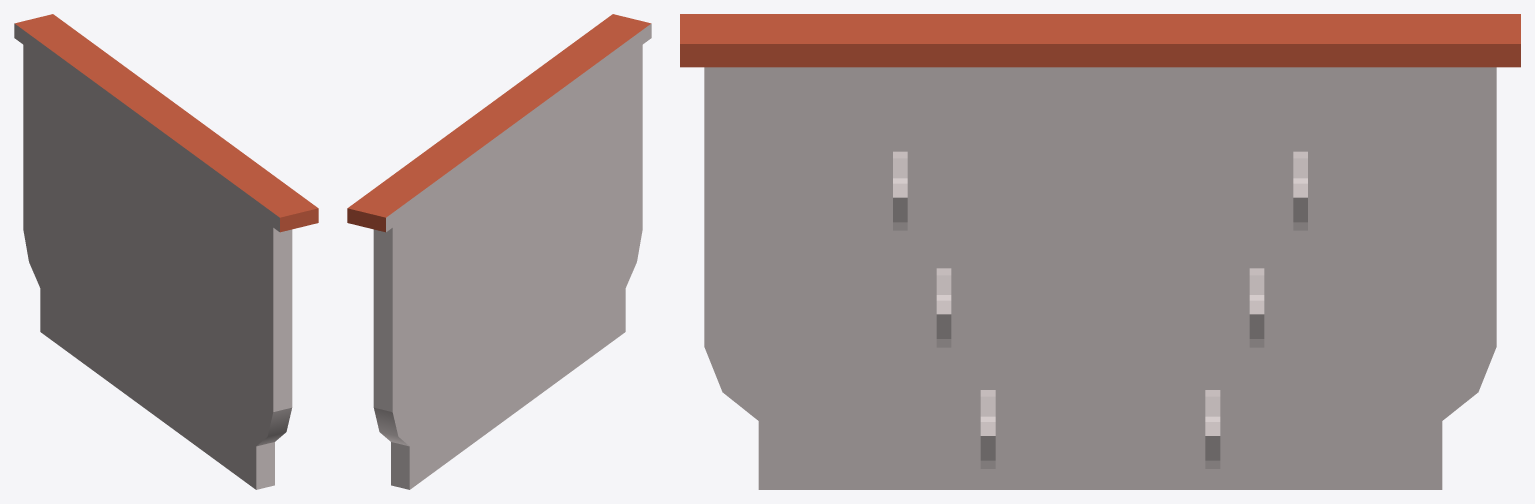
The model's file is Katana.fbx.
The picture shows the model from 3 angles, left to right: view 1: azimuth 30°, elevation 25°; view 2: azimuth 150°, elevation 25°; view 3: azimuth 270°, elevation 25°; orthographic projection. The views are drawn at different scales.
Visible parts, largest first — view 1: SM_fasteners_01; view 2: SM_fasteners_01; view 3: SM_fasteners_01.
Part boxes in pixels (x1,y1,x2,y2): SM_fasteners_01: (14, 14, 318, 489); SM_fasteners_01: (347, 14, 651, 489); SM_fasteners_01: (680, 14, 1520, 489).
Bounding box in the file's own units: 22.57 × 79.66 × 132.
